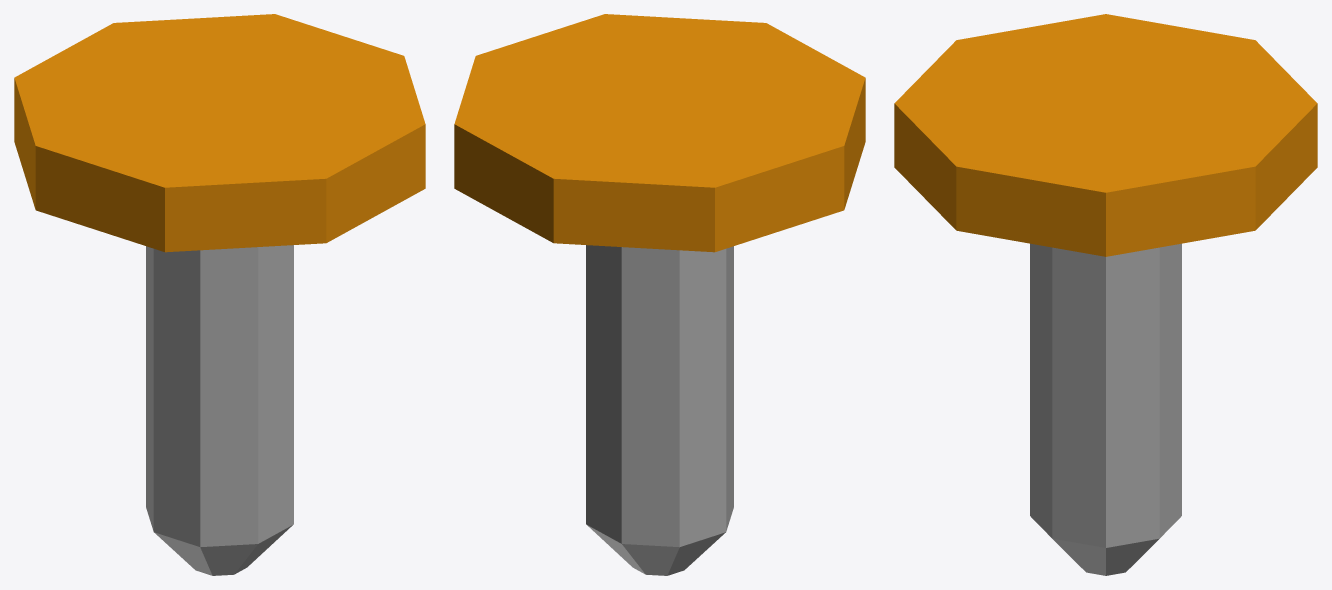
The model's file is screw.gltf.
3 views of the same model, side by side, from view 1: azimuth 30°, elevation 25°; view 2: azimuth 150°, elevation 25°; view 3: azimuth 270°, elevation 25° (orthographic).
Parts seen in each view (by area): view 1: Cylinder, Cylinder.001; view 2: Cylinder, Cylinder.001; view 3: Cylinder, Cylinder.001.
Part boxes in pixels (x1,y1,x2,y2): Cylinder: [14, 14, 425, 252]; Cylinder.001: [146, 245, 293, 575]; Cylinder: [454, 14, 865, 252]; Cylinder.001: [586, 245, 733, 575]; Cylinder: [894, 14, 1317, 256]; Cylinder.001: [1030, 243, 1181, 575].
Bounding box in the file's own units: 1.46 × 1.75 × 1.46.
